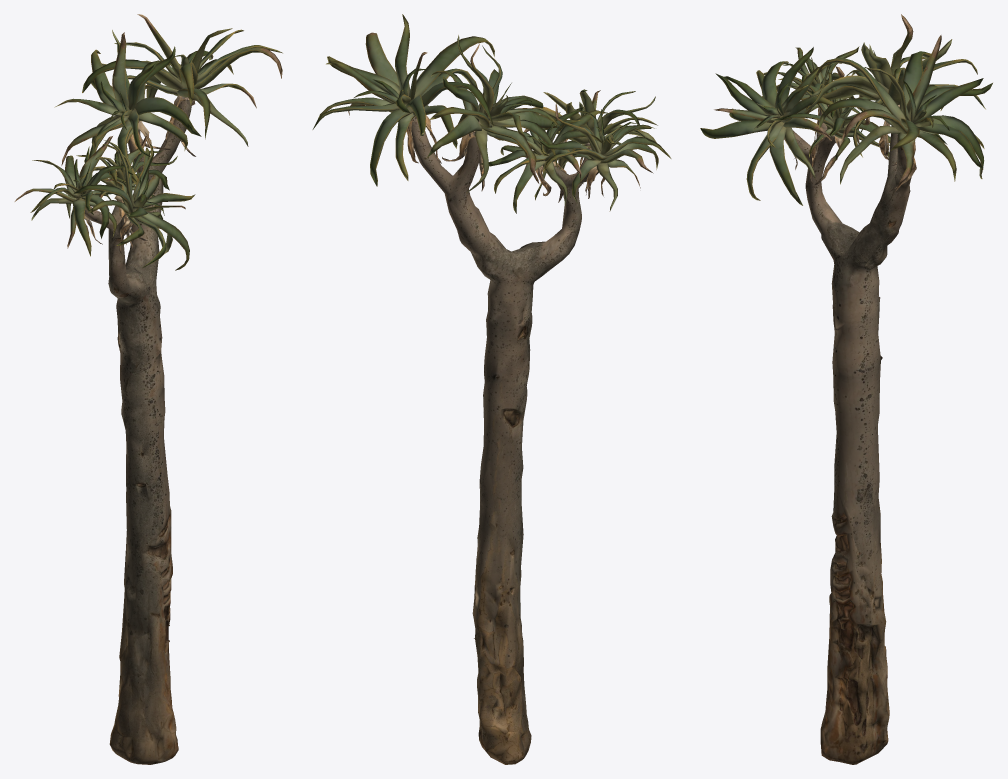
File: quiver_tree_01.glb
The picture shows the model from 3 angles, left to right: view 1: azimuth 30°, elevation 25°; view 2: azimuth 150°, elevation 25°; view 3: azimuth 270°, elevation 25°; orthographic projection. The views are drawn at different scales.
Parts seen in each view (by area): view 1: quiver_tree_01; view 2: quiver_tree_01; view 3: quiver_tree_01.
Boxes of the visible parts, <box> form: quiver_tree_01: <box>14,14,282,764</box>; quiver_tree_01: <box>312,14,671,764</box>; quiver_tree_01: <box>700,14,992,764</box>.
Size of the model in its own units: 1.18 by 2.72 by 0.9676.
2 materials, 2 textured.
